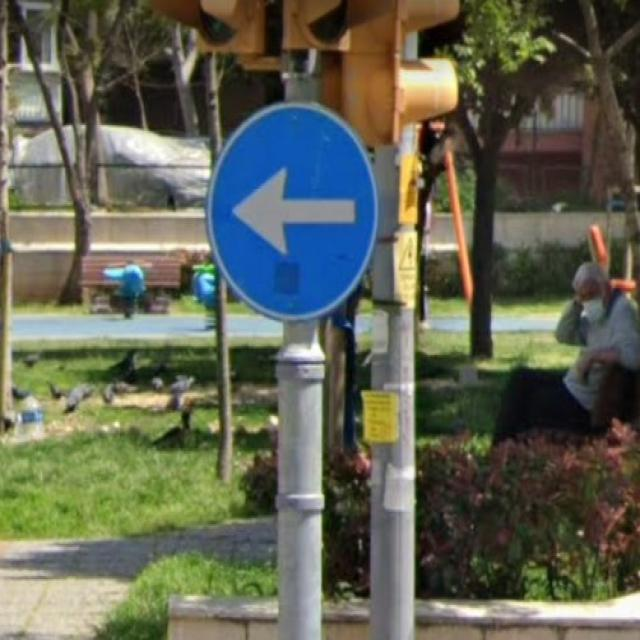Turn Left: (205, 100, 391, 316)
